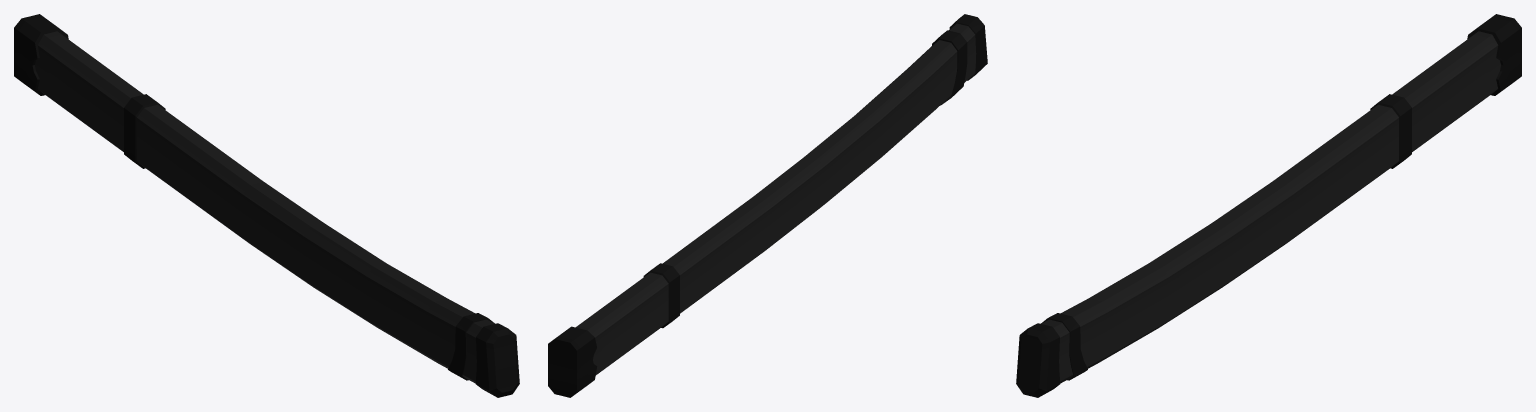
The model's file is thaosvenom_sheath_1.obj.
3 renders of one model, left to right at view 1: azimuth 30°, elevation 25°; view 2: azimuth 150°, elevation 25°; view 3: azimuth 330°, elevation 25°, orthographic. The views are drawn at different scales.
Visible parts, largest first — view 1: Sheath_Cube.002; view 2: Sheath_Cube.002; view 3: Sheath_Cube.002.
Part boxes in pixels (<box>): Sheath_Cube.002: <box>14,14,519,397</box>; Sheath_Cube.002: <box>548,14,987,397</box>; Sheath_Cube.002: <box>1016,14,1521,397</box>.
Bounding box in the file's own units: 0.0834 × 0.2261 × 2.09.
